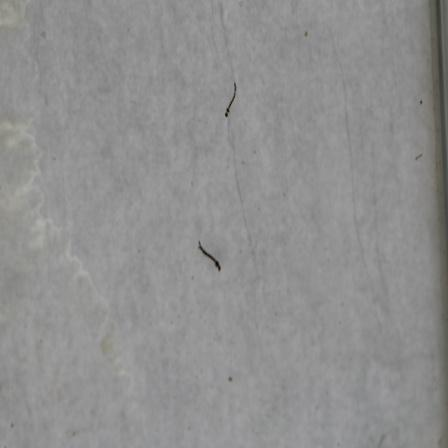Jentik-Nyamuk: (196, 238, 224, 274), (220, 80, 241, 121)
